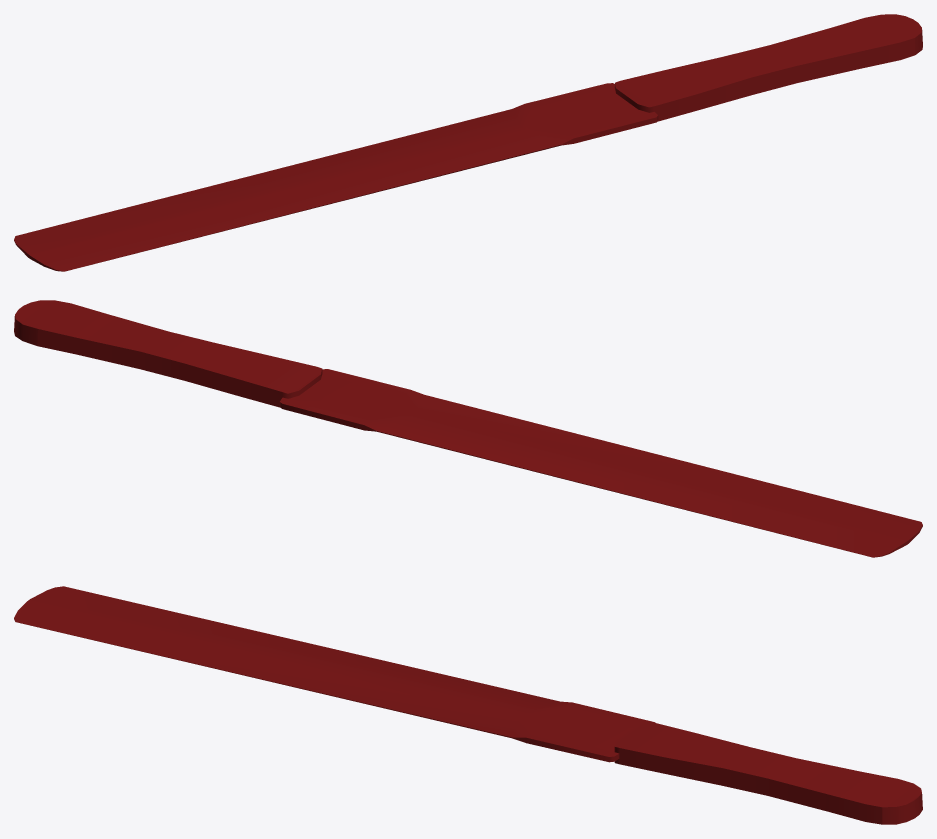
Rendered from SM_Brain_Knife_2.FBX.
3 views of the same model, one above another, from view 1: azimuth 30°, elevation 25°; view 2: azimuth 150°, elevation 25°; view 3: azimuth 330°, elevation 25° (orthographic).
Parts seen in each view (by area): view 1: Brain_Knife_2; view 2: Brain_Knife_2; view 3: Brain_Knife_2.
Boxes of the visible parts, x1,y1,x2,y2 form: Brain_Knife_2: (14, 14, 922, 271); Brain_Knife_2: (14, 300, 922, 557); Brain_Knife_2: (14, 586, 922, 824).
Bounding box in the file's own units: 37.77 × 0.835 × 3.6.
